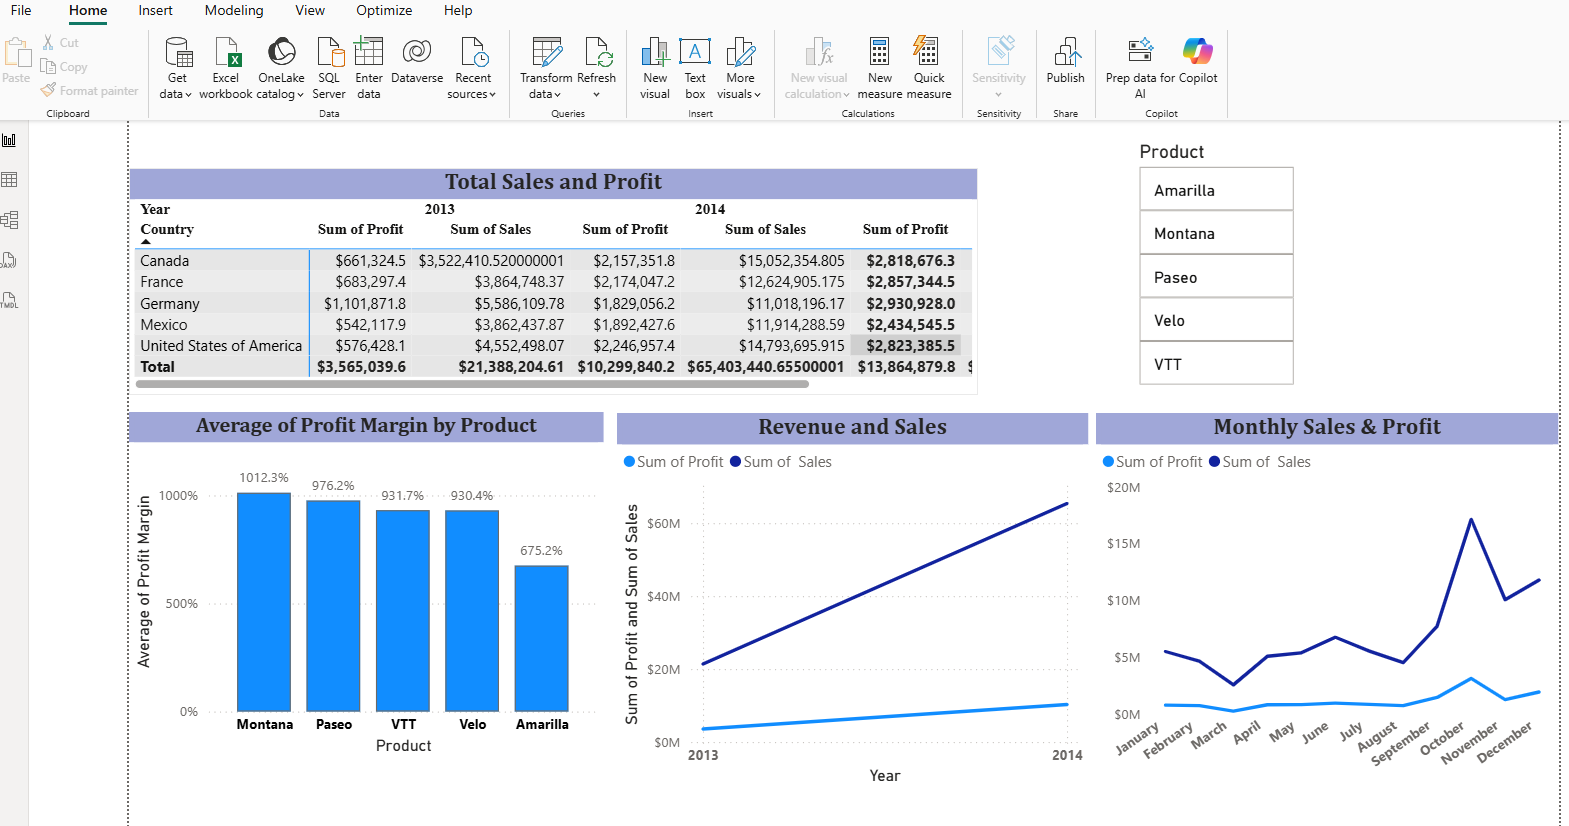

This screenshot's page, from the dashboard's own definition file:
{"tool":"powerbi","page":{"name":"Sales & Profit","canvas":[1280,720],"ordinal":0},"visuals":[{"type":"pivotTable","title":"Total Sales and Profit","fields":{"Values":["Sum(financials.Profit)","Sum(financials. Sales)"],"Rows":["financials.Country"],"Columns":["financials.Year"]},"box":[0,43,760,203],"z":0},{"type":"lineChart","title":"Revenue and Sales","fields":{"Category":["financials.Country","financials.Year","financials.Month Name"],"Y":["Sum(financials.Profit)","Sum(financials. Sales)"]},"box":[437,262,422,338],"z":1000},{"type":"lineChart","title":"Monthly Sales & Profit","fields":{"Category":["financials.Country","financials.Year","financials.Month Name"],"Y":["Sum(financials.Profit)","Sum(financials. Sales)"]},"box":[866,262,414,338],"z":2000},{"type":"advancedSlicerVisual","fields":{"Values":["financials.Product"]},"box":[900,18,148,228],"z":3000},{"type":"clusteredColumnChart","fields":{"Category":["financials.Product"],"Y":["Avg(financials.Profit Margin)"]},"box":[0,261.6,425,311.2],"z":4000}]}

Visuals, with their boxes on the page's 1280x720 design canvas (x1, y1, x2, y2). These are canvas units, not pixel positions in the 1569x826 screenshot, which may show the page scaled, cropped or inside an application window:
"Total Sales and Profit" pivotTable: [0, 43, 760, 246]
"Revenue and Sales" lineChart: [437, 262, 859, 600]
"Monthly Sales & Profit" lineChart: [866, 262, 1280, 600]
advancedSlicerVisual - financials.Product: [900, 18, 1048, 246]
clusteredColumnChart - financials.Product x Avg(financials.Profit Margin): [0, 262, 425, 573]
